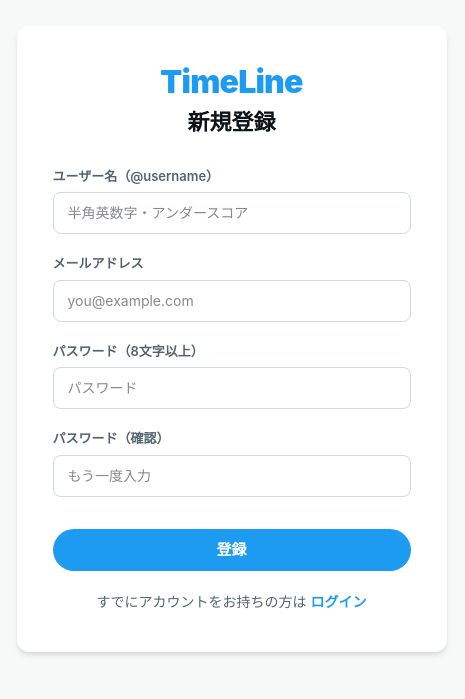
Test: RegisterPage › パスワードが8文字未満でエラーが表示される
This screenshot has width=465, height=699.
Type "alice" into the field labelled "ユーザー名（@username）" at (232, 213), box [52,192,410,234]
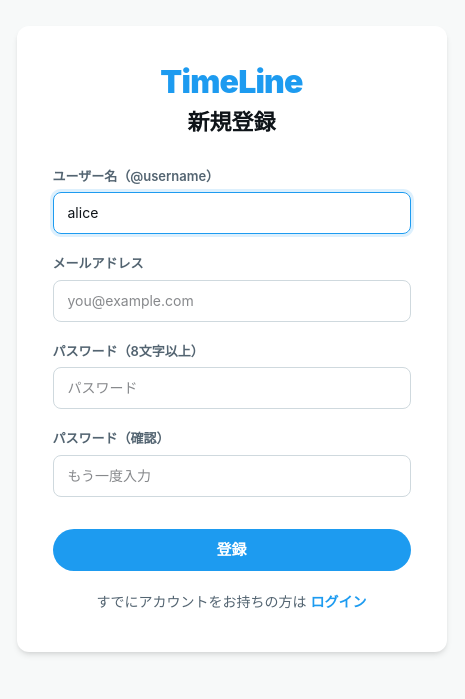
Type "alice@example.com" into the field labelled "メールアドレス" at (232, 301), box [52,280,410,322]
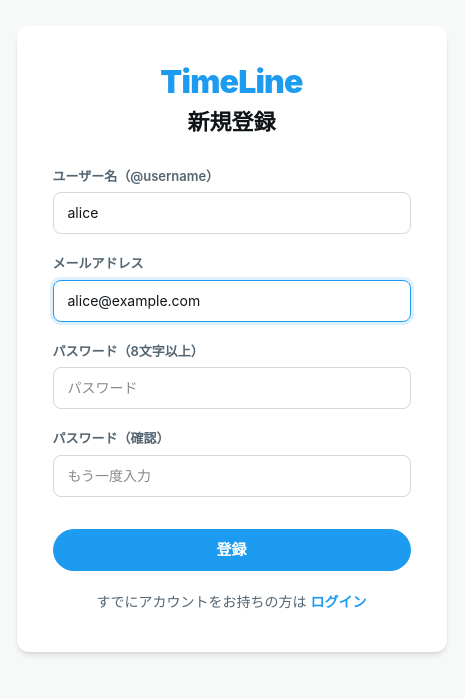
Type "short" into the password field labelled "パスワード（8文字以上）" at (232, 388), box [52,367,410,409]
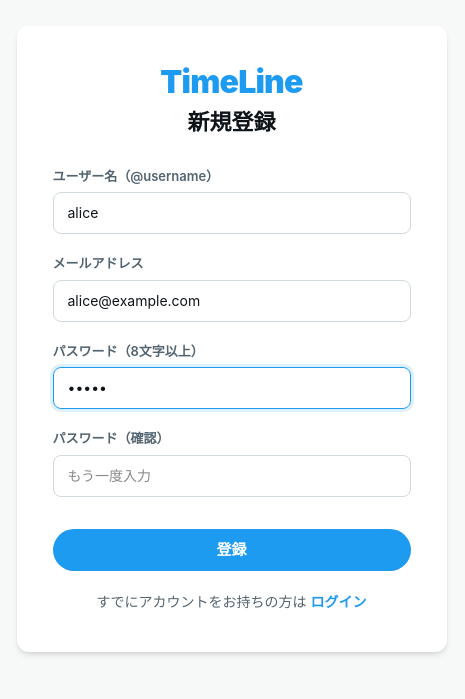
Type "short" into the password field labelled "パスワード（確認）" at (232, 476), box [52,455,410,497]
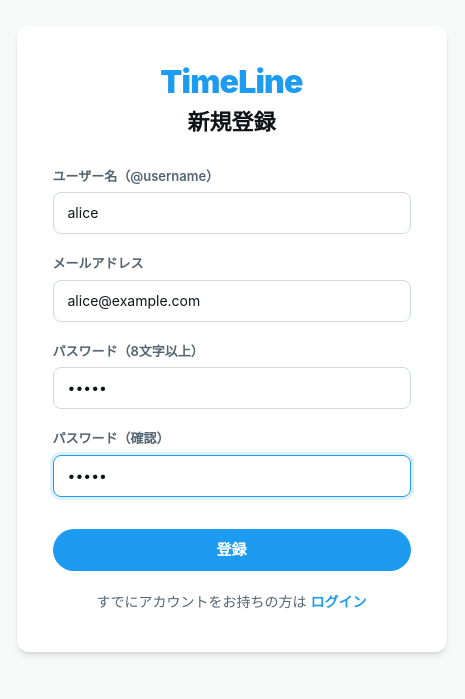
Click the button "登録" at (232, 550), box [52,529,410,571]
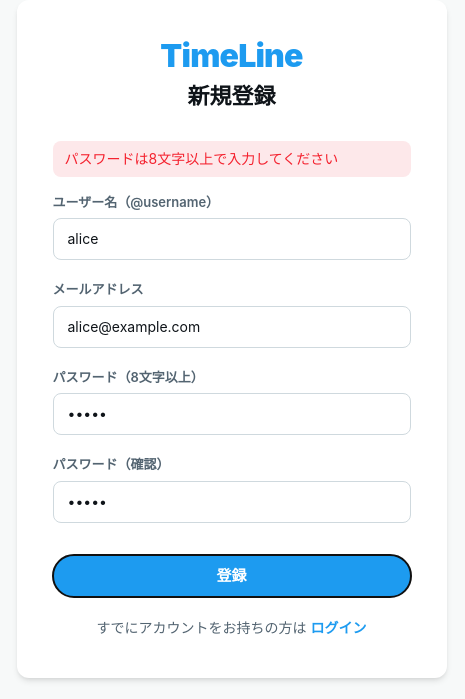
Check: the text "パスワードは8文字以上で入力してください" is shown, box [52,141,410,177]
